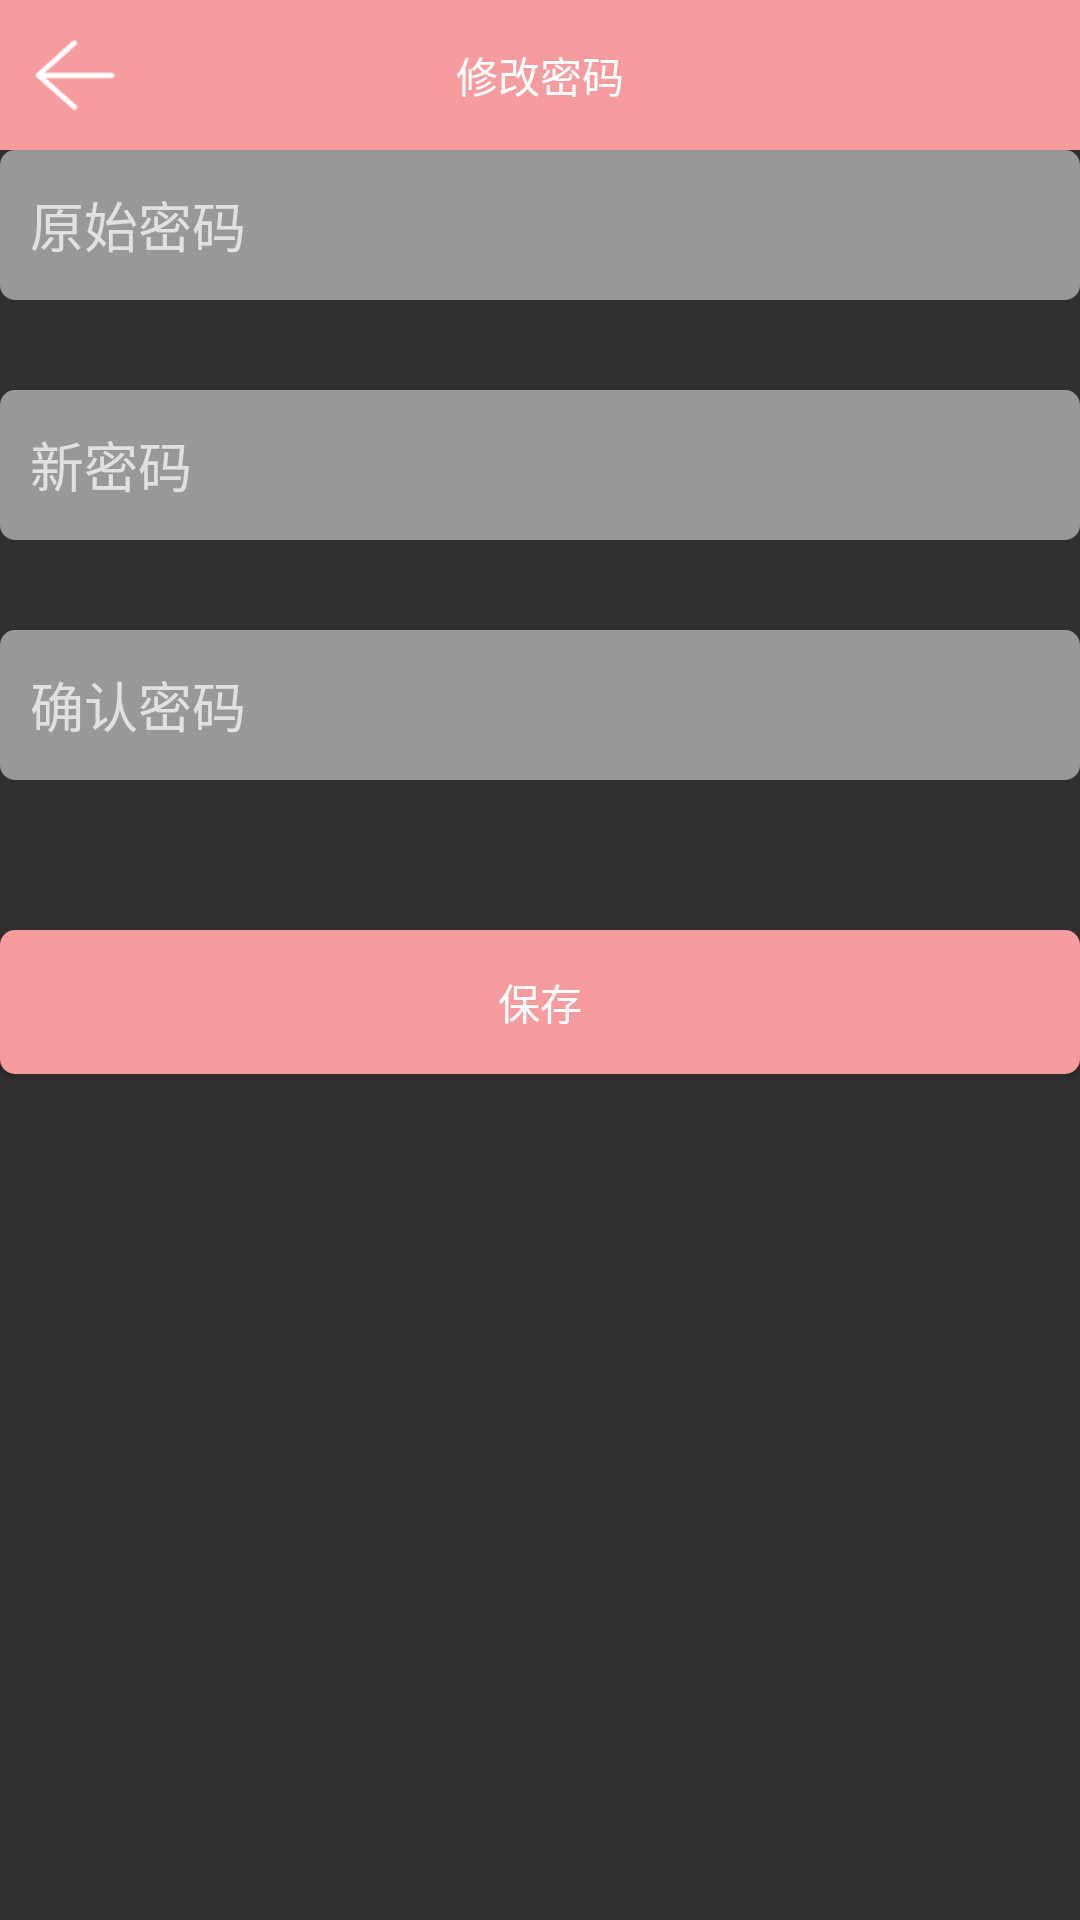

Screen size 1080x1920. Icon name, then its center in pixels as (x,y):
back: (75,75)
